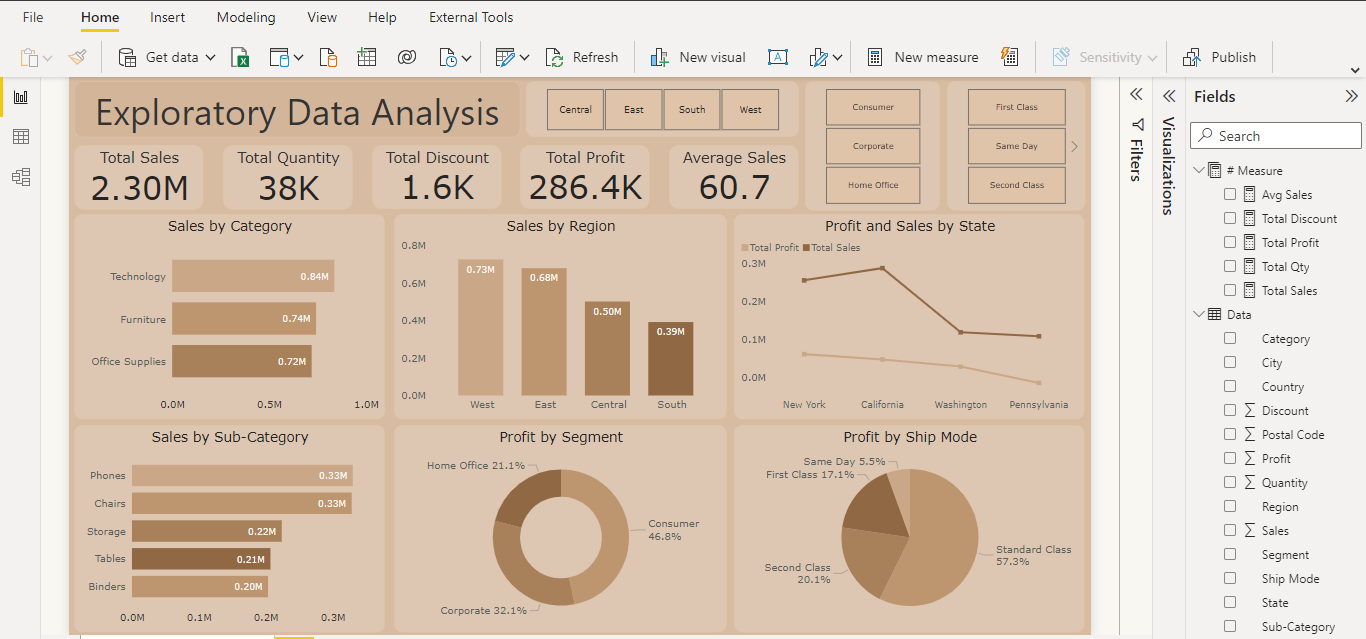

This screenshot's page, from the dashboard's own definition file:
{"tool":"powerbi","page":{"name":"SuperStore Sales Dashboard","canvas":[1500,820],"ordinal":0},"visuals":[{"type":"card","title":"Total Sales","fields":{"Values":["# Measure.Total Sales"]},"box":[7.1,99.2,189.9,95],"z":0},{"type":"card","title":"Total Quantity","fields":{"Values":["# Measure.Total Qty"]},"box":[225.6,99.2,189.9,95],"z":1000},{"type":"card","title":"Total Discount","fields":{"Values":["# Measure.Total Discount"]},"box":[444,99.9,189.6,94.1],"z":2000},{"type":"card","title":"Total Profit","fields":{"Values":["# Measure.Total Profit"]},"box":[662.1,99.9,189.6,94.1],"z":3000},{"type":"card","title":"Average Sales","fields":{"Values":["# Measure.Avg Sales"]},"box":[880.3,99.9,189.6,94.1],"z":4000},{"type":"shape","box":[7.8,6.2,654.8,82.6],"z":5000},{"type":"barChart","title":"Sales by Category","fields":{"Category":["Data.Category"],"Y":["# Measure.Total Sales"]},"box":[7.3,201.3,455.6,301.3],"z":6000},{"type":"barChart","title":"Sales by Sub-Category","fields":{"Y":["# Measure.Total Sales"],"Category":["Data.Sub-Category"]},"box":[7.3,509.9,455.6,304.2],"z":7000},{"type":"clusteredColumnChart","title":"Sales by Region","fields":{"Category":["Data.Region"],"Y":["# Measure.Total Sales"]},"box":[476.1,201.3,487.9,301.3],"z":8000},{"type":"donutChart","title":"Profit by Segment","fields":{"Category":["Data.Segment"],"Y":["# Measure.Total Profit"]},"box":[476.1,509.9,487.9,304.2],"z":9000},{"type":"lineChart","title":"Profit and Sales by State","fields":{"Category":["Data.State"],"Y":["# Measure.Total Profit","# Measure.Total Sales"]},"box":[975.8,201.3,514.3,301.3],"z":10000},{"type":"pieChart","title":"Profit by Ship Mode","fields":{"Category":["Data.Ship Mode"],"Y":["# Measure.Total Profit"]},"box":[975.8,509.9,514.3,304.2],"z":11000},{"type":"slicer","fields":{"Values":["Data.Region"]},"box":[670.1,5.9,399.7,82.3],"z":12000},{"type":"slicer","fields":{"Values":["Data.Segment"]},"box":[1080.1,5.9,198.4,189.6],"z":13000},{"type":"slicer","fields":{"Values":["Data.Ship Mode"]},"box":[1287.3,5.9,202.8,189.6],"z":14000}]}

Visuals, with their boxes on the page's 1500x820 design canvas (x1, y1, x2, y2). These are canvas units, not pixel positions in the 1366x639 screenshot, which may show the page scaled, cropped or inside an application window:
"Total Sales" card: 7/99/197/194
"Total Quantity" card: 226/99/416/194
"Total Discount" card: 444/100/634/194
"Total Profit" card: 662/100/852/194
"Average Sales" card: 880/100/1070/194
shape: 8/6/663/89
"Sales by Category" barChart: 7/201/463/503
"Sales by Sub-Category" barChart: 7/510/463/814
"Sales by Region" clusteredColumnChart: 476/201/964/503
"Profit by Segment" donutChart: 476/510/964/814
"Profit and Sales by State" lineChart: 976/201/1490/503
"Profit by Ship Mode" pieChart: 976/510/1490/814
slicer - Data.Region: 670/6/1070/88
slicer - Data.Segment: 1080/6/1278/196
slicer - Data.Ship Mode: 1287/6/1490/196
